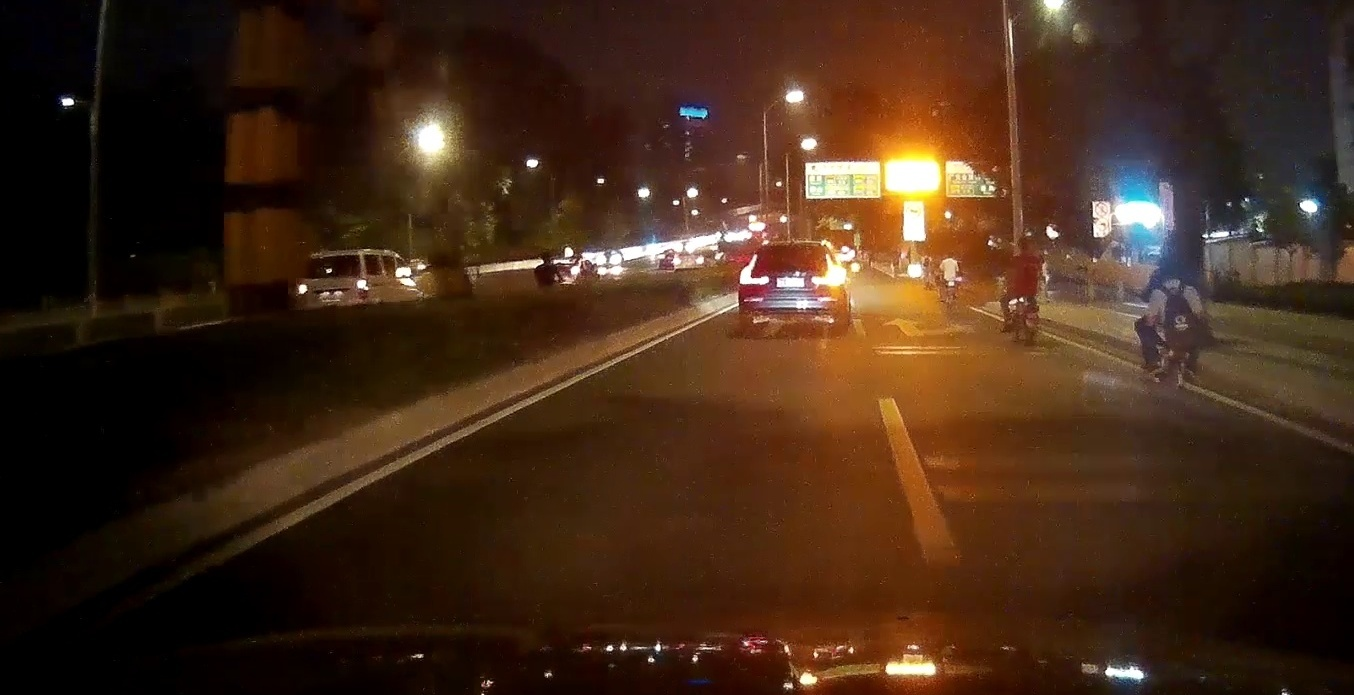L_light: (739, 252, 770, 285), (297, 283, 308, 296)
R_light: (811, 254, 844, 287), (356, 279, 368, 291)
T_light: (783, 243, 804, 249), (325, 254, 342, 258)
night-no: (293, 249, 370, 316)
night-right: (737, 240, 848, 339)
